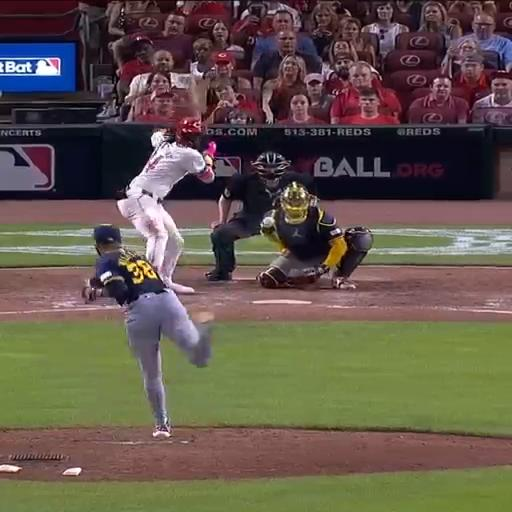bat: (187, 77, 211, 143)
